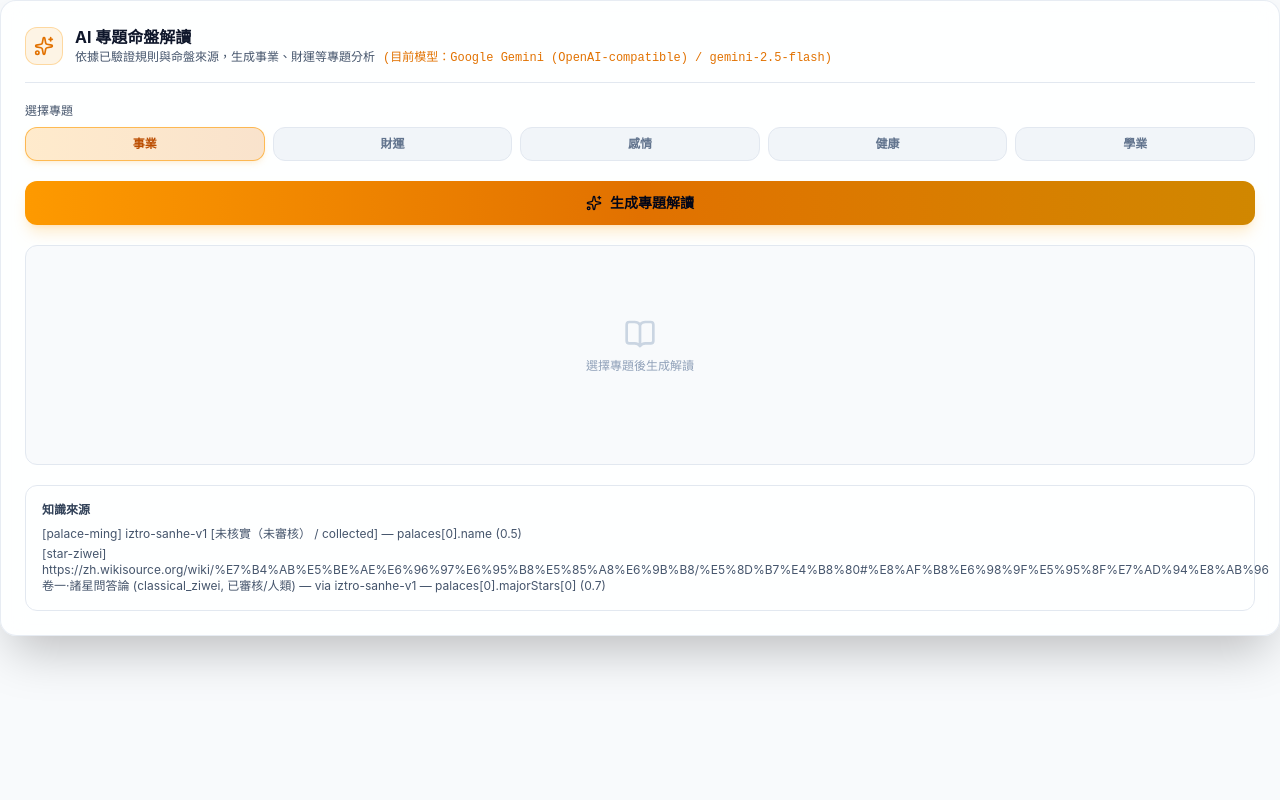
it: SpecialTopicPanel › streams the selected topic reading and sends only its rule subset
Step 1. Click the button "生成專題解讀" → (640, 203), box [25,181,1255,225]
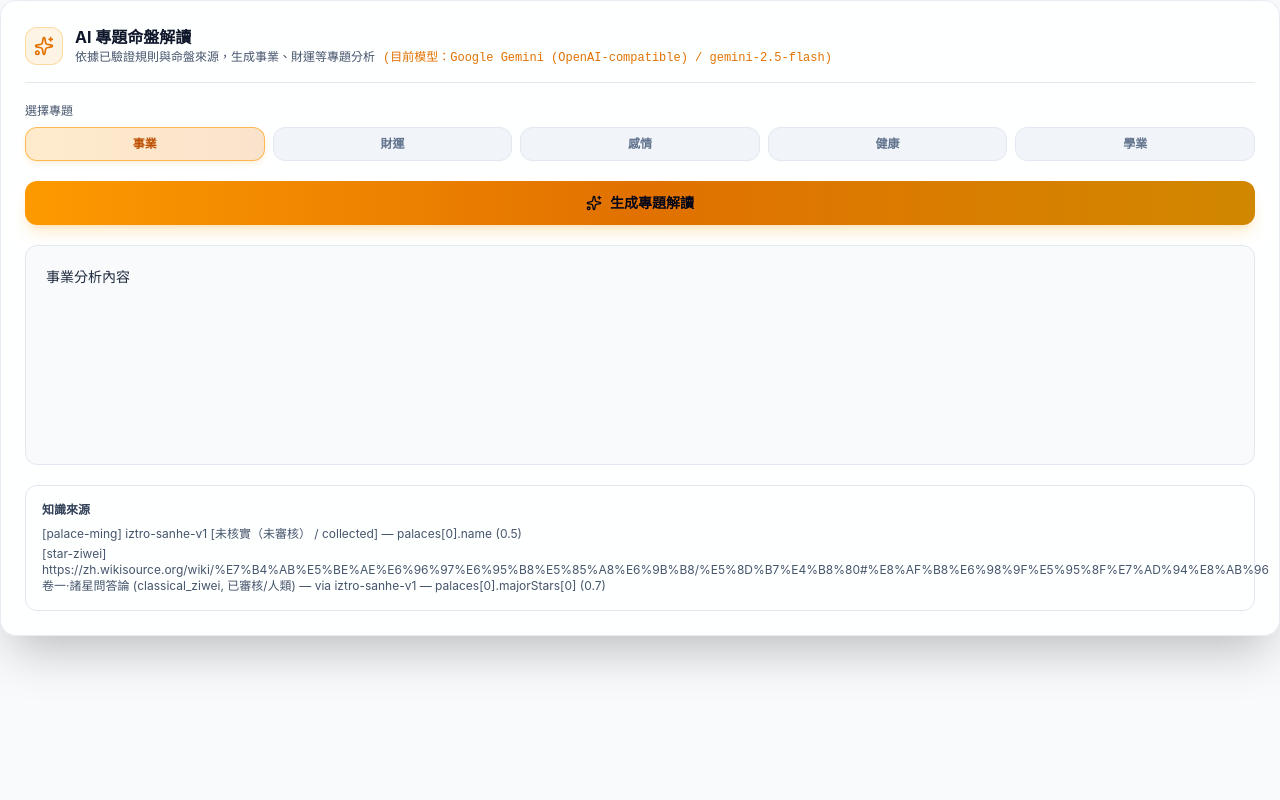
Expected: the list item "star-ziwei" is shown, [46,546,102,561]
Expected: the text "事業分析內容" is shown, [46,268,130,285]
